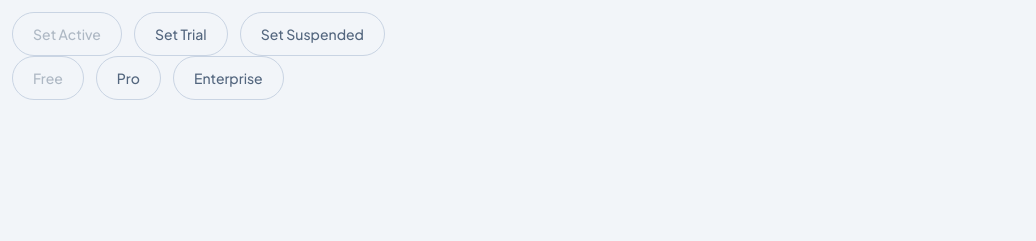
Scenario: platform client account forms › announces successful account changes and names each control group
Expected: the element named "Client status" is shown, [12,12,385,56]
Expected: the element named "Client plan" is shown, [12,56,284,100]
Step 1. Click the button "Set Suspended" → [312, 34], box [240,12,385,56]
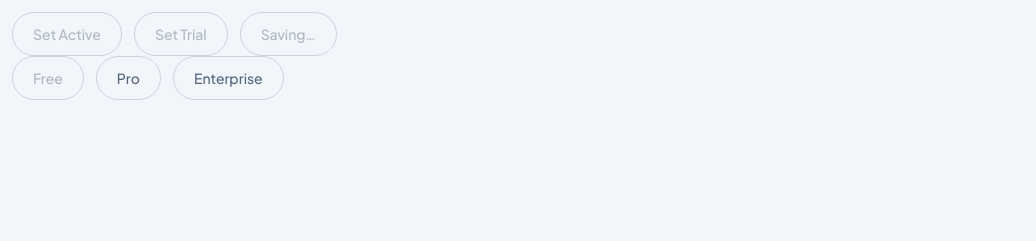
Step 2. Click the button "Pro" → [128, 78], box [96,56,161,100]
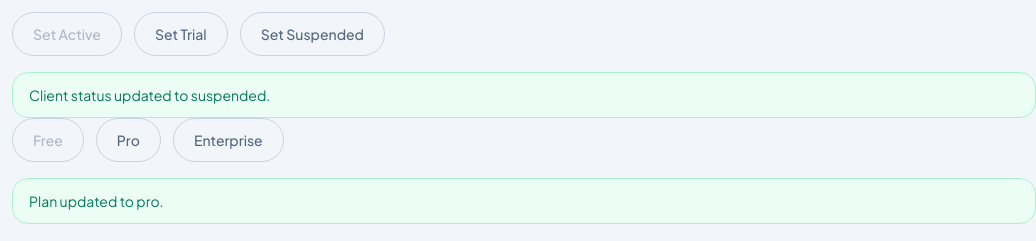
Now the messages read "Client status updated to suspended.", "Plan updated to pro.", in this order, box [12,72,1035,118]; [12,178,1035,224]
